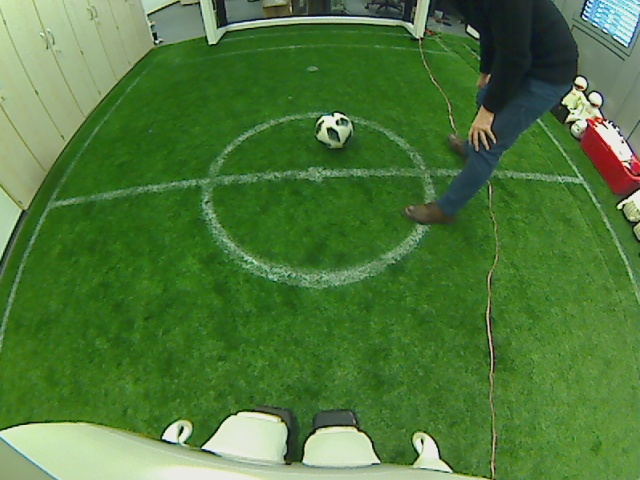ball: (312, 111, 354, 147)
